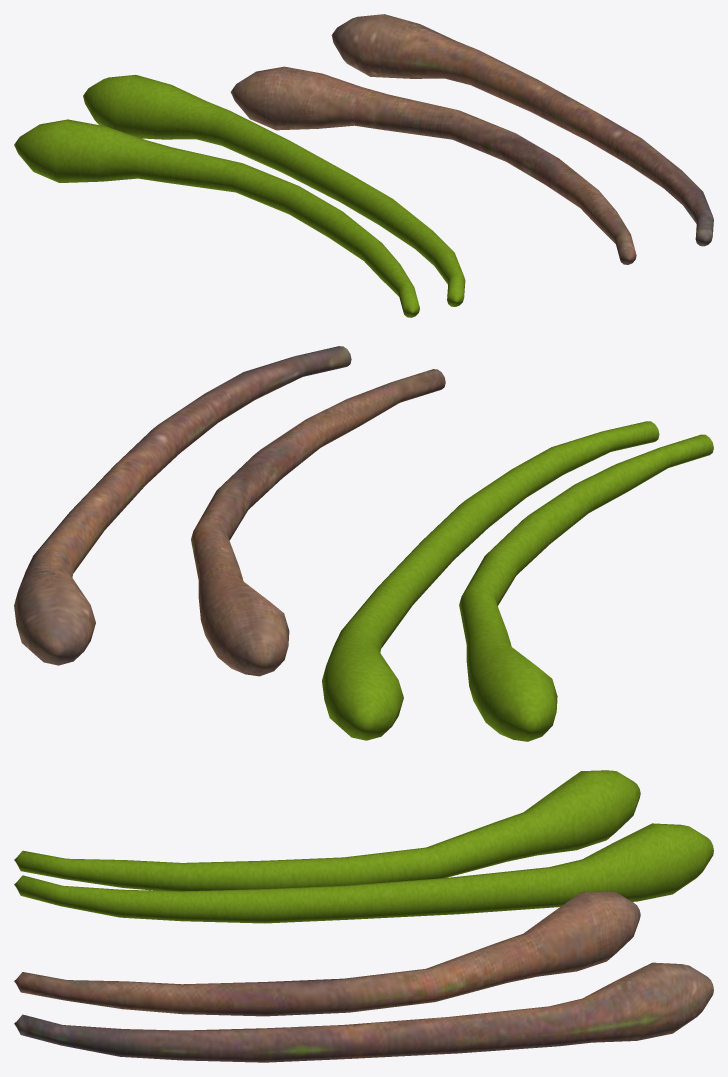
The model's file is jinyinhua.FBX.
3 renders of one model, top to bottom at view 1: azimuth 30°, elevation 25°; view 2: azimuth 150°, elevation 25°; view 3: azimuth 270°, elevation 25°, orthographic. The views are drawn at different scales.
Parts seen in each view (by area): view 1: Cylinder004, Cylinder001, Cylinder002, Cylinder003; view 2: Cylinder002, Cylinder003, Cylinder004, Cylinder001; view 3: Cylinder002, Cylinder003, Cylinder001, Cylinder004.
Part boxes in pixels (<box>): Cylinder004: <box>14,119,419,317</box>; Cylinder001: <box>230,66,636,264</box>; Cylinder002: <box>331,14,713,246</box>; Cylinder003: <box>83,74,465,306</box>; Cylinder002: <box>14,346,351,665</box>; Cylinder003: <box>322,421,659,740</box>; Cylinder004: <box>459,434,713,741</box>; Cylinder001: <box>191,369,445,676</box>; Cylinder002: <box>14,962,713,1062</box>; Cylinder003: <box>14,823,713,923</box>; Cylinder001: <box>14,891,640,1016</box>; Cylinder004: <box>14,770,640,891</box>.
Bounding box in the file's own units: 0.363 × 0.0428 × 0.405.
Materials: 1 (1 with a texture image).
